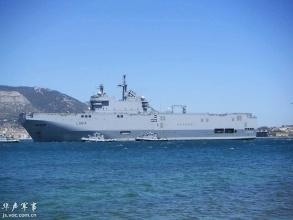warship: (13, 82, 260, 142)
